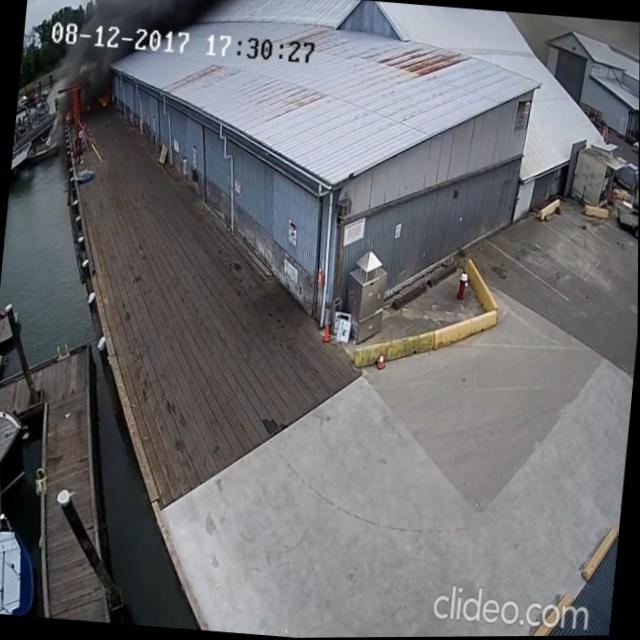fire: (98, 96, 107, 107)
